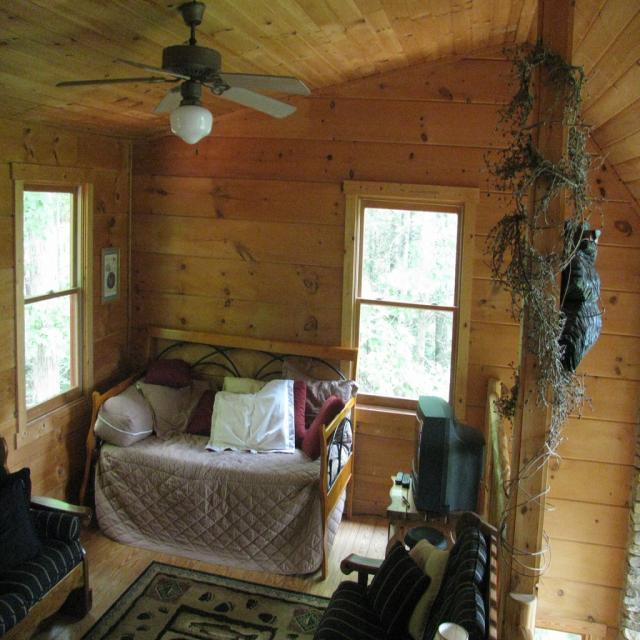fan_off: (60, 6, 307, 121)
